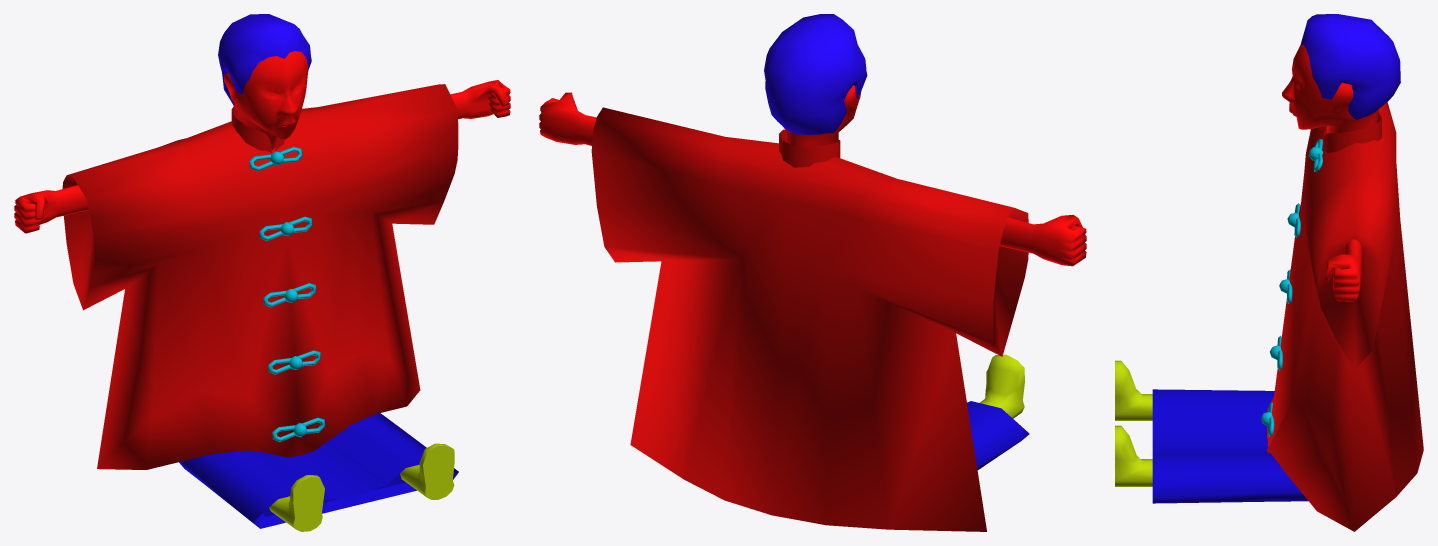
File: glove_puppet06.FBX
The picture shows the model from 3 angles, left to right: view 1: azimuth 30°, elevation 25°; view 2: azimuth 150°, elevation 25°; view 3: azimuth 270°, elevation 25°; orthographic projection. The views are drawn at different scales.
Parts seen in each view (by area): view 1: puppet_cloth, puppet_body; view 2: puppet_cloth, puppet_body; view 3: puppet_cloth, puppet_body.
Boxes of the visible parts, left/top/right/bottom form: puppet_cloth: left=62, top=84, right=458, bottom=531; puppet_body: left=14, top=14, right=510, bottom=233; puppet_cloth: left=591, top=107, right=1029, bottom=531; puppet_body: left=539, top=14, right=1086, bottom=266; puppet_cloth: left=1115, top=102, right=1423, bottom=531; puppet_body: left=1282, top=14, right=1400, bottom=301.
Size of the model in its own units: 2.41 by 1.28 by 2.
